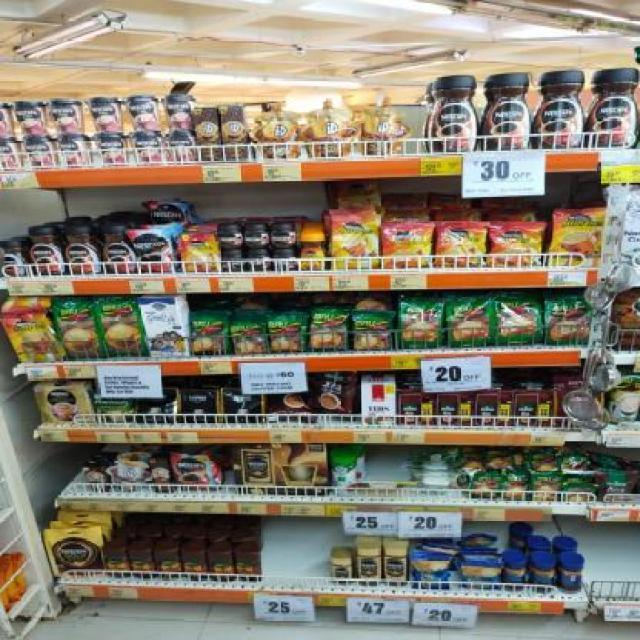Coffee: (585, 68, 637, 147), (480, 74, 532, 150), (428, 77, 478, 151), (533, 76, 583, 148), (553, 209, 604, 265), (9, 314, 62, 362), (333, 215, 377, 268), (489, 223, 541, 267), (382, 224, 430, 267), (438, 222, 482, 264), (27, 229, 65, 275), (132, 232, 173, 273), (101, 226, 137, 272), (63, 229, 99, 275), (173, 455, 215, 491), (299, 231, 327, 269), (384, 547, 407, 585), (357, 547, 379, 584), (0, 239, 24, 272), (243, 223, 269, 247), (218, 248, 244, 272), (331, 557, 352, 586), (220, 225, 241, 247), (274, 223, 294, 245), (277, 249, 298, 269), (248, 252, 270, 271)
